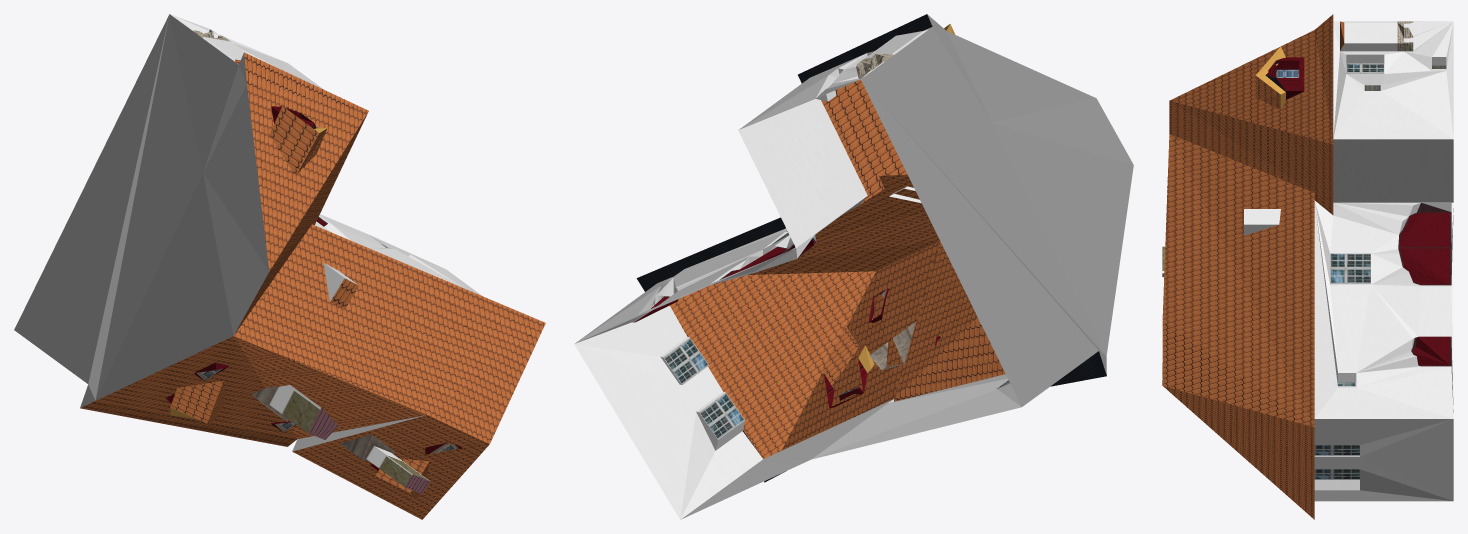
File: Lai_30a-origo.obj
The picture shows the model from 3 angles, left to right: view 1: azimuth 30°, elevation 25°; view 2: azimuth 150°, elevation 25°; view 3: azimuth 270°, elevation 25°; orthographic projection. The views are drawn at different scales.
Visible parts, largest first — view 1: Lai_30a; view 2: Lai_30a; view 3: Lai_30a.
Boxes of the visible parts, x1,y1,x2,y2 form: Lai_30a: (14, 14, 545, 519); Lai_30a: (574, 14, 1133, 519); Lai_30a: (1162, 14, 1453, 519).
Bounding box in the file's own units: 21.62 × 22.5 × 13.67.
